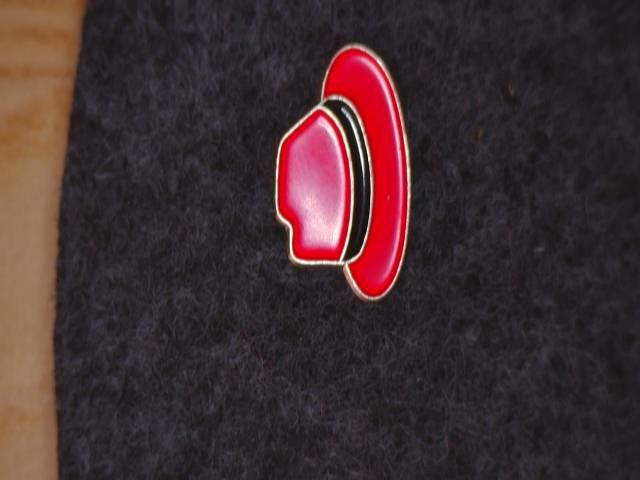Red-Hat: (254, 28, 446, 349)
